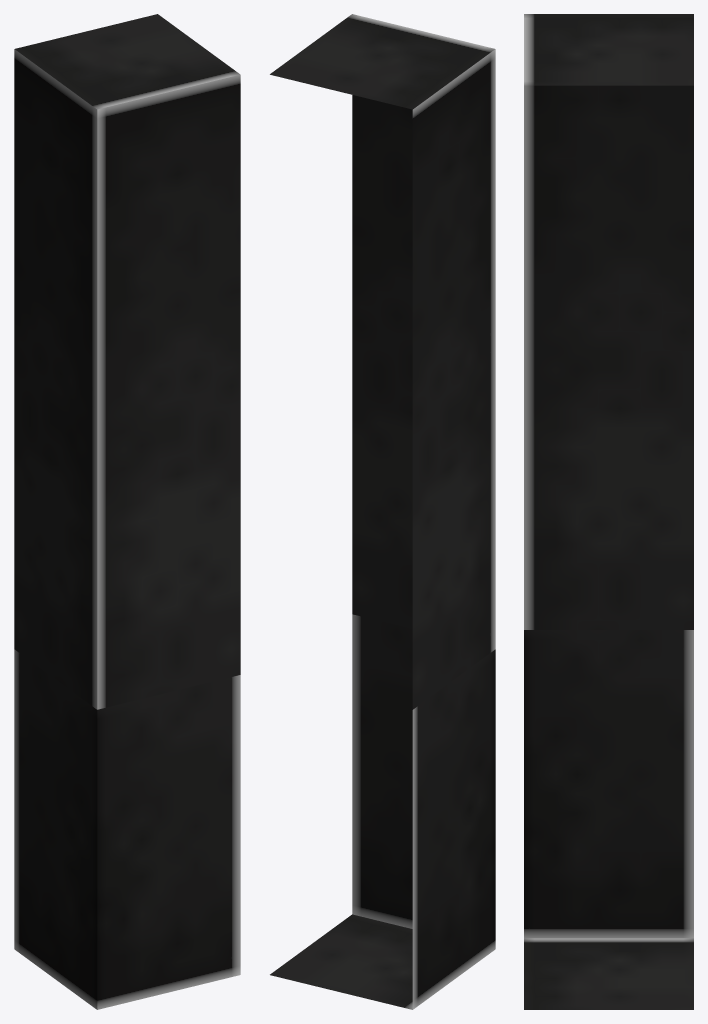
The model's file is corner-in.obj.
3 renders of one model, left to right at view 1: azimuth 30°, elevation 25°; view 2: azimuth 150°, elevation 25°; view 3: azimuth 270°, elevation 25°, orthographic. The views are drawn at different scales.
Parts seen in each view (by area): view 1: Plane; view 2: Plane; view 3: Plane.
Boxes of the visible parts, x1,y1,x2,y2 form: Plane: [14, 14, 240, 1009]; Plane: [270, 14, 495, 1009]; Plane: [524, 14, 693, 1009].
Bounding box in the file's own units: 1 × 6 × 1.
Materials: 1 (1 with a texture image).
